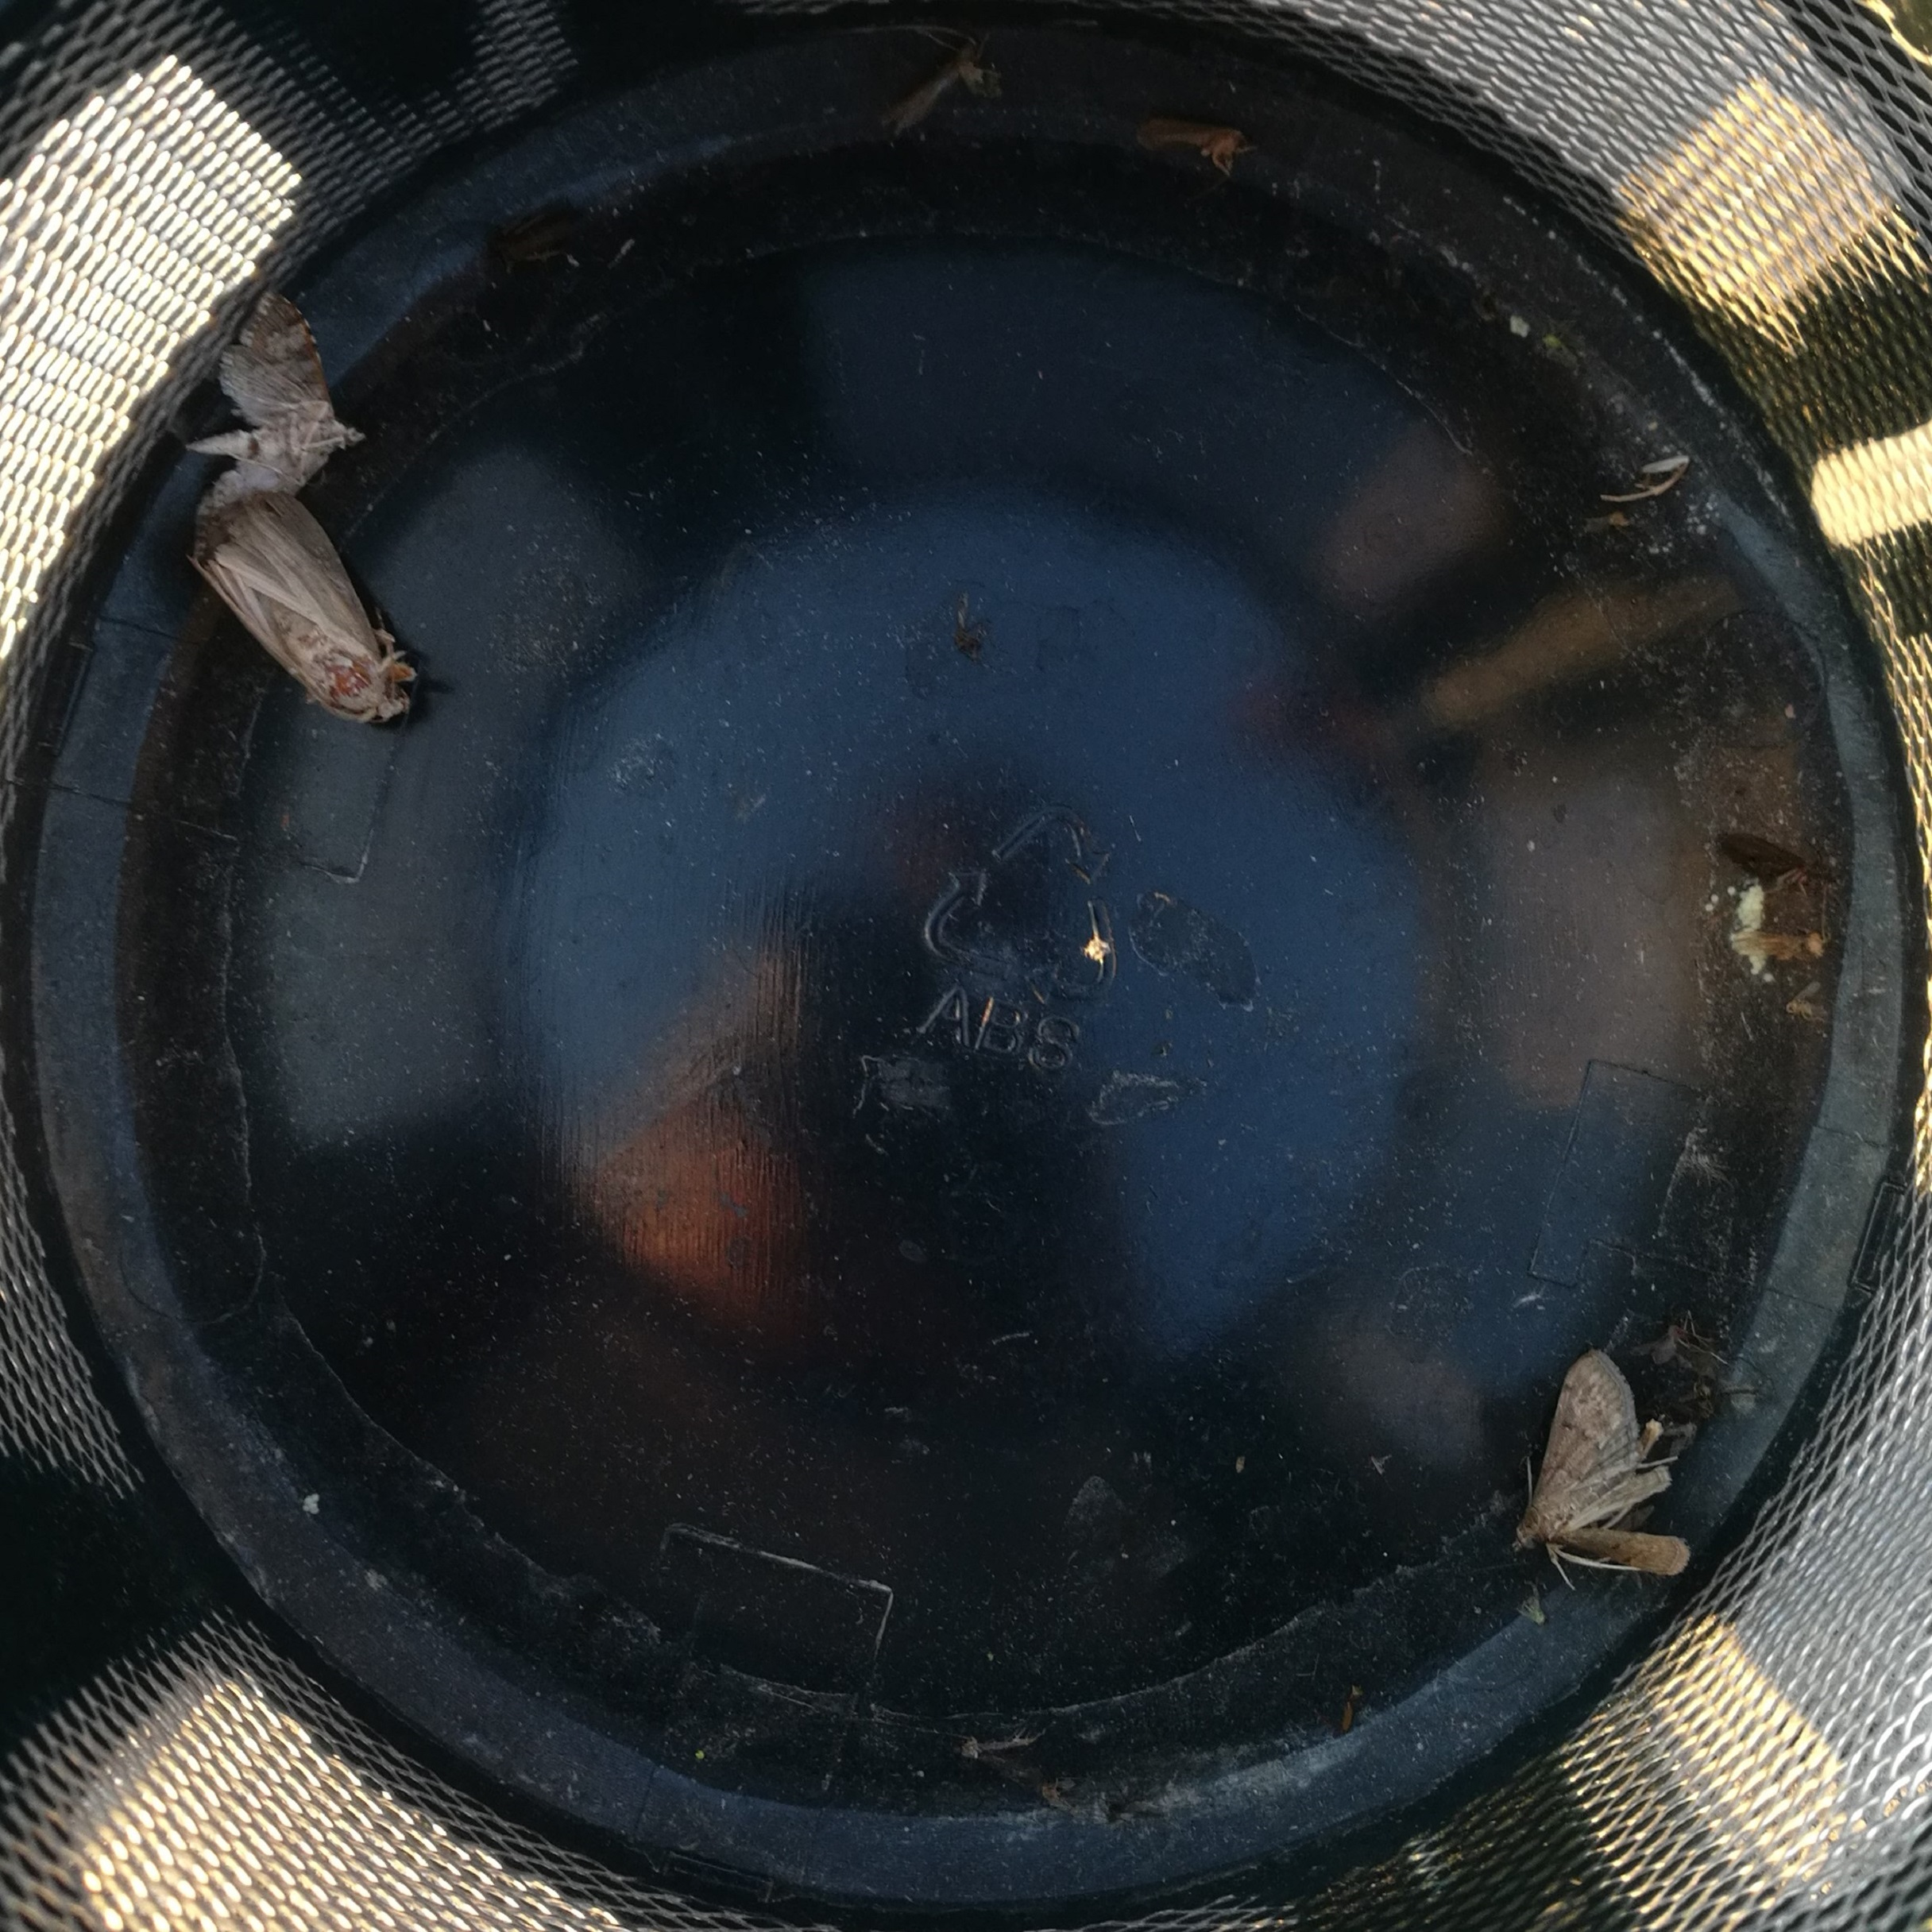moth: (195, 499, 410, 718), (1516, 1353, 1690, 1575), (193, 290, 366, 501)
